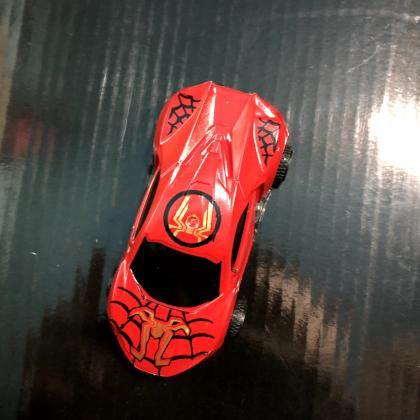Car: (106, 82, 292, 379)
